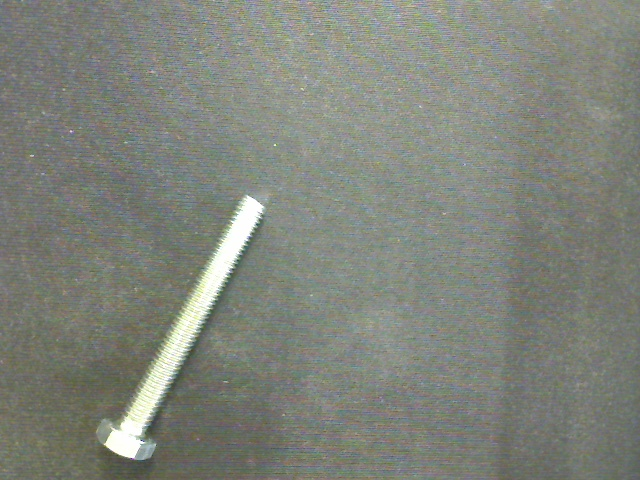screw: (95, 194, 266, 459)
